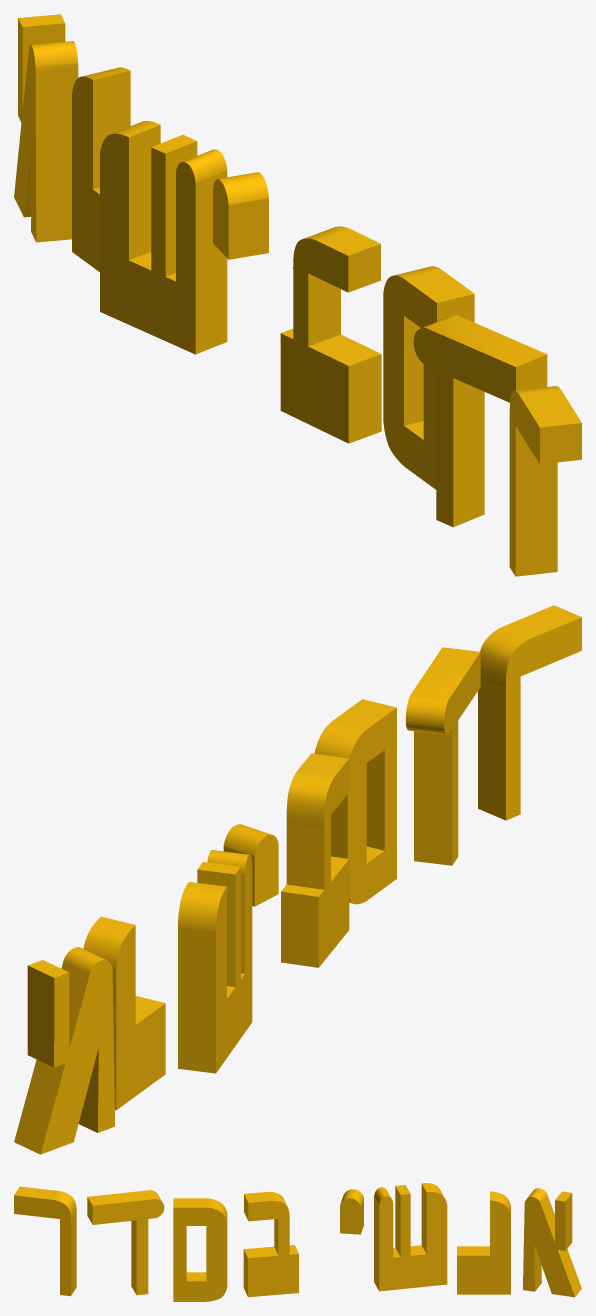
Rendered from 02_title.gltf.
3 views of the same model, one above another, from view 1: azimuth 30°, elevation 25°; view 2: azimuth 150°, elevation 25°; view 3: azimuth 270°, elevation 25° (orthographic). The views are drawn at different scales.
Parts seen in each view (by area): view 1: Cap 1 (×8), נפח.5, נפח.7, נפח, נפח.3, נפח.1, נפח.2, נפח.4, נפח.6; view 2: Cap 1 (×8), נפח.5, נפח.1, נפח.3, נפח.7, נפח, נפח.2, נפח.6, נפח.4; view 3: Cap 2 (×8), נפח.5, נפח.7, נפח.1, נפח.3, נפח, נפח.2, נפח.6, נפח.4.
Part boxes in pixels (x1=…): Cap 1 (×8): x1=14, y1=18, x2=539, y2=576; נפח.5: x1=112, y1=121, x2=227, y2=354; נפח.7: x1=18, y1=14, x2=78, y2=242; נפח: x1=515, y1=386, x2=581, y2=576; נפח.3: x1=281, y1=226, x2=381, y2=443; נפח.1: x1=422, y1=315, x2=547, y2=527; נפח.2: x1=394, y1=266, x2=474, y2=439; נפח.4: x1=219, y1=172, x2=268, y2=259; נפח.6: x1=82, y1=67, x2=130, y2=194; Cap 1 (×8): x1=40, y1=617, x2=581, y2=1154; נפח.5: x1=178, y1=850, x2=249, y2=1073; נפח.1: x1=405, y1=647, x2=480, y2=865; נפח.3: x1=281, y1=753, x2=348, y2=967; נפח.7: x1=14, y1=947, x2=105, y2=1154; נפח: x1=478, y1=605, x2=581, y2=820; נפח.2: x1=314, y1=699, x2=396, y2=903; נפח.6: x1=83, y1=916, x2=165, y2=1110; נפח.4: x1=223, y1=824, x2=270, y2=906; Cap 2 (×8): x1=14, y1=1192, x2=574, y2=1301; נפח.5: x1=374, y1=1183, x2=443, y2=1290; נפח.7: x1=527, y1=1188, x2=581, y2=1296; נפח.1: x1=87, y1=1190, x2=161, y2=1294; נפח.3: x1=243, y1=1191, x2=298, y2=1296; נפח: x1=14, y1=1186, x2=76, y2=1295; נפח.2: x1=173, y1=1198, x2=227, y2=1281; נפח.6: x1=457, y1=1191, x2=510, y2=1255; נפח.4: x1=341, y1=1189, x2=363, y2=1234.
Size of the model in its own units: 569 by 954 by 5185.
